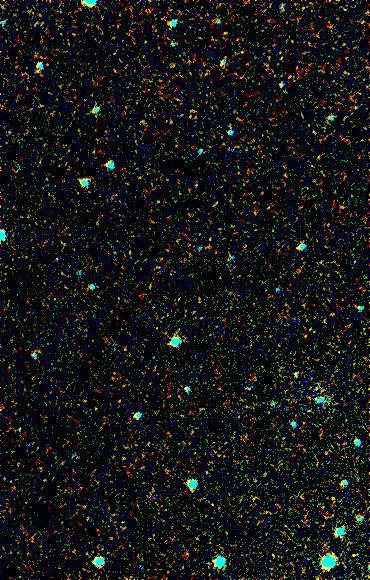star: (320, 484, 350, 514)
